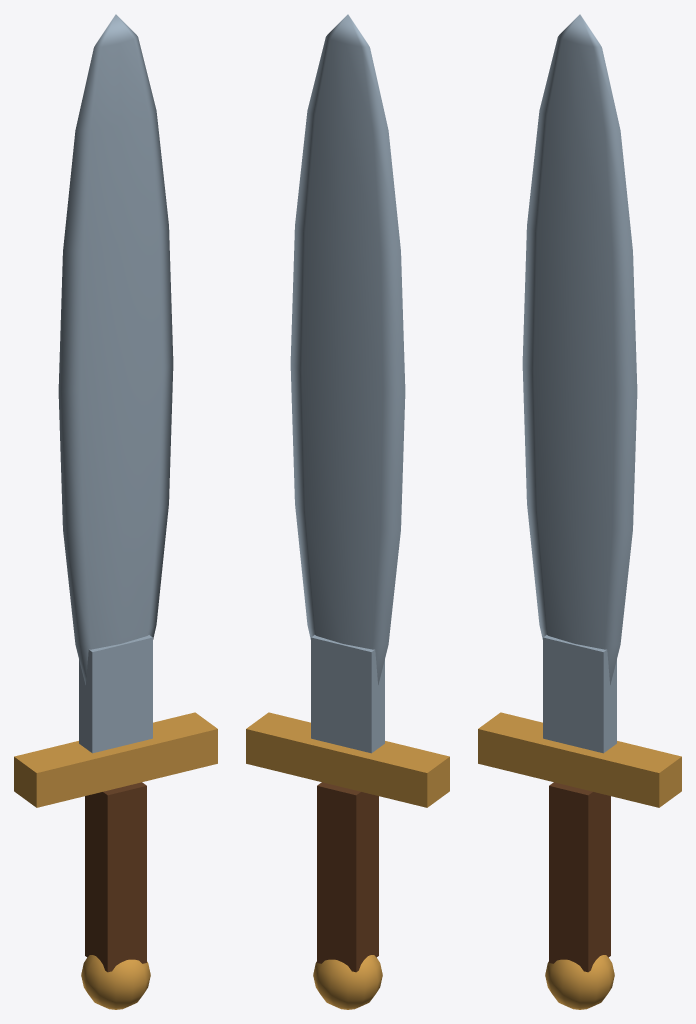
Rendered from twoHandSword.glb.
3 views of the same model, side by side, from view 1: azimuth 30°, elevation 25°; view 2: azimuth 150°, elevation 25°; view 3: azimuth 330°, elevation 25° (orthographic).
Parts seen in each view (by area): view 1: Blade, Grip, Guard, BladeCore, Pommel; view 2: Blade, Grip, Guard, BladeCore, Pommel; view 3: Blade, Grip, Guard, BladeCore, Pommel.
Boxes of the visible parts, x1,y1,x2,y2 form: Blade: (58, 14, 173, 684); Grip: (85, 782, 146, 972); Guard: (14, 712, 217, 807); BladeCore: (79, 635, 152, 753); Pommel: (81, 955, 150, 1009); Blade: (290, 14, 405, 684); Grip: (317, 782, 378, 972); Guard: (246, 712, 449, 807); BladeCore: (311, 635, 384, 753); Pommel: (313, 955, 382, 1009); Blade: (522, 14, 637, 684); Grip: (549, 782, 610, 972); Guard: (478, 712, 681, 807); BladeCore: (543, 635, 616, 753); Pommel: (545, 955, 614, 1009).
Bounding box in the file's own units: 0.3 × 1.57 × 0.1.
